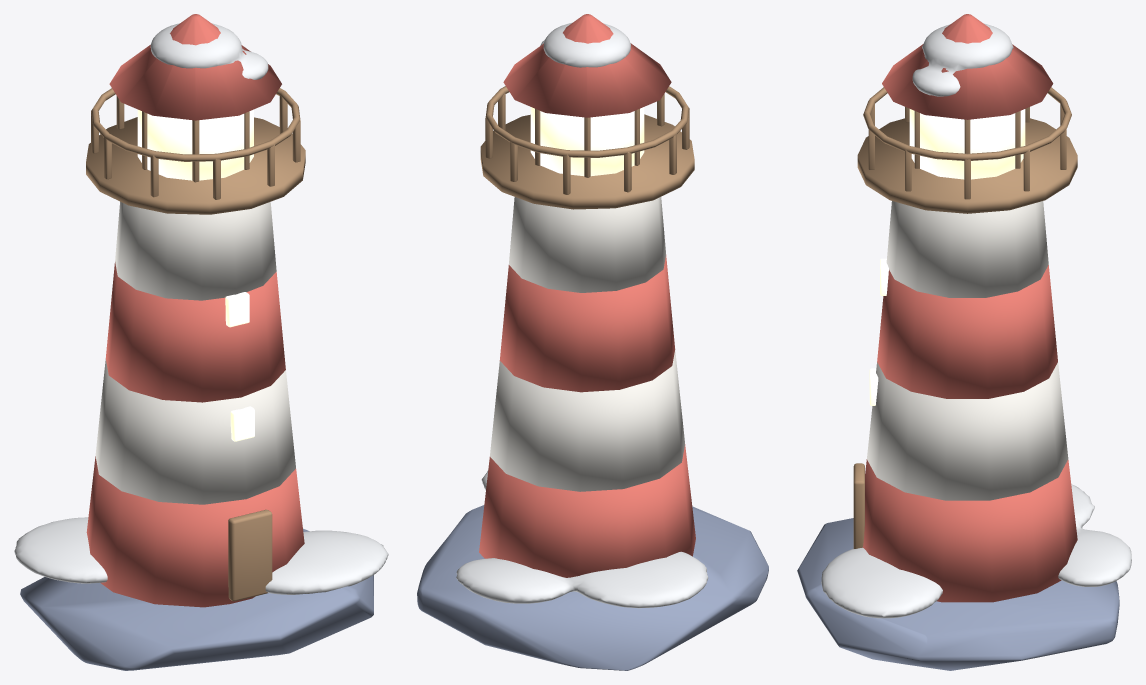
Rendered from lighthouse.glb.
3 views of the same model, side by side, from view 1: azimuth 30°, elevation 25°; view 2: azimuth 150°, elevation 25°; view 3: azimuth 270°, elevation 25° (orthographic). The views are drawn at different scales.
Visible parts, largest first — view 1: Base, Band1, Band0, Band2, Band3, BaseSnow, Deck, Roof, Lamp, Door, RoofSnow, Torus (+2 smaller); view 2: Base, Band1, Band0, Band2, Band3, Deck, Roof, BaseSnow, Lamp, RoofSnow, Torus; view 3: Band0, Band1, Base, Band2, Band3, Deck, BaseSnow, Roof, Lamp, RoofSnow, Torus, Door.
Part boxes in pixels (box(x1,y1,x2,y2)): Base: box(20, 528, 373, 670); Band1: box(95, 359, 295, 504); Band0: box(86, 456, 304, 607); Band2: box(105, 262, 285, 402); Band3: box(115, 201, 276, 300); BaseSnow: box(14, 517, 388, 594); Deck: box(86, 117, 305, 214); Roof: box(109, 14, 281, 120); Lamp: box(137, 109, 253, 180); Door: box(228, 509, 272, 601); RoofSnow: box(150, 23, 268, 79); Torus: box(91, 88, 300, 161); Base: box(417, 505, 768, 670); Band1: box(490, 350, 684, 491); Band0: box(479, 444, 695, 577); Band2: box(499, 255, 675, 392); Band3: box(509, 197, 665, 292); Deck: box(480, 114, 694, 209); Roof: box(503, 14, 671, 117); BaseSnow: box(456, 470, 708, 608); Lamp: box(530, 107, 644, 176); RoofSnow: box(540, 22, 630, 67); Torus: box(485, 86, 689, 157); Band0: box(863, 459, 1077, 602); Band1: box(867, 362, 1068, 500); Base: box(797, 518, 1119, 670); Band2: box(877, 265, 1057, 398); Band3: box(886, 201, 1048, 297); Deck: box(857, 118, 1077, 213); BaseSnow: box(821, 484, 1131, 618); Roof: box(882, 14, 1053, 119); Lamp: box(909, 109, 1025, 179); RoofSnow: box(912, 23, 1013, 96); Torus: box(863, 87, 1071, 160); Door: box(853, 463, 864, 548).
Bounding box in the file's own units: 3.78 × 7.05 × 3.59.
